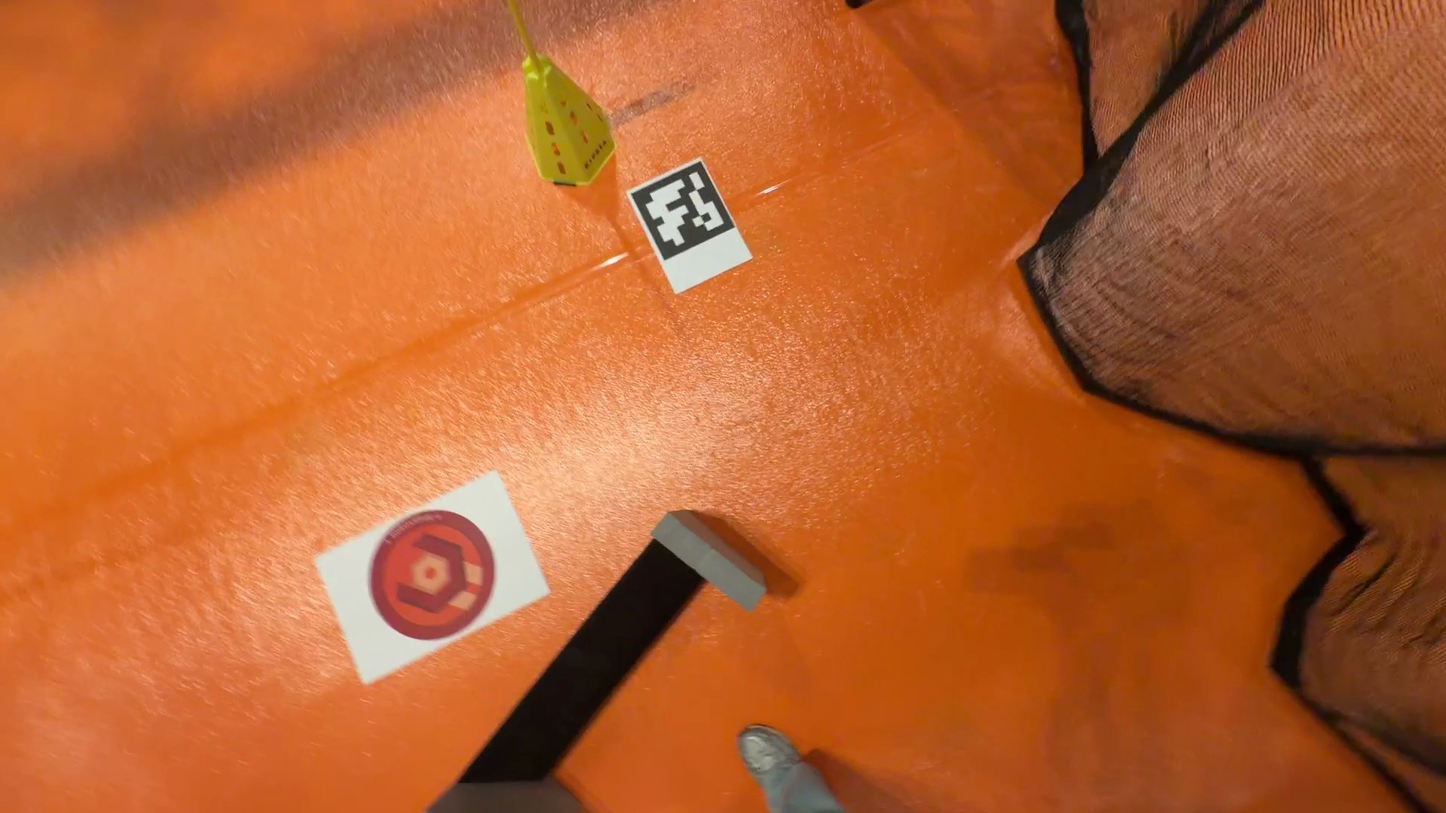landing_pad: (368, 510, 496, 646)
